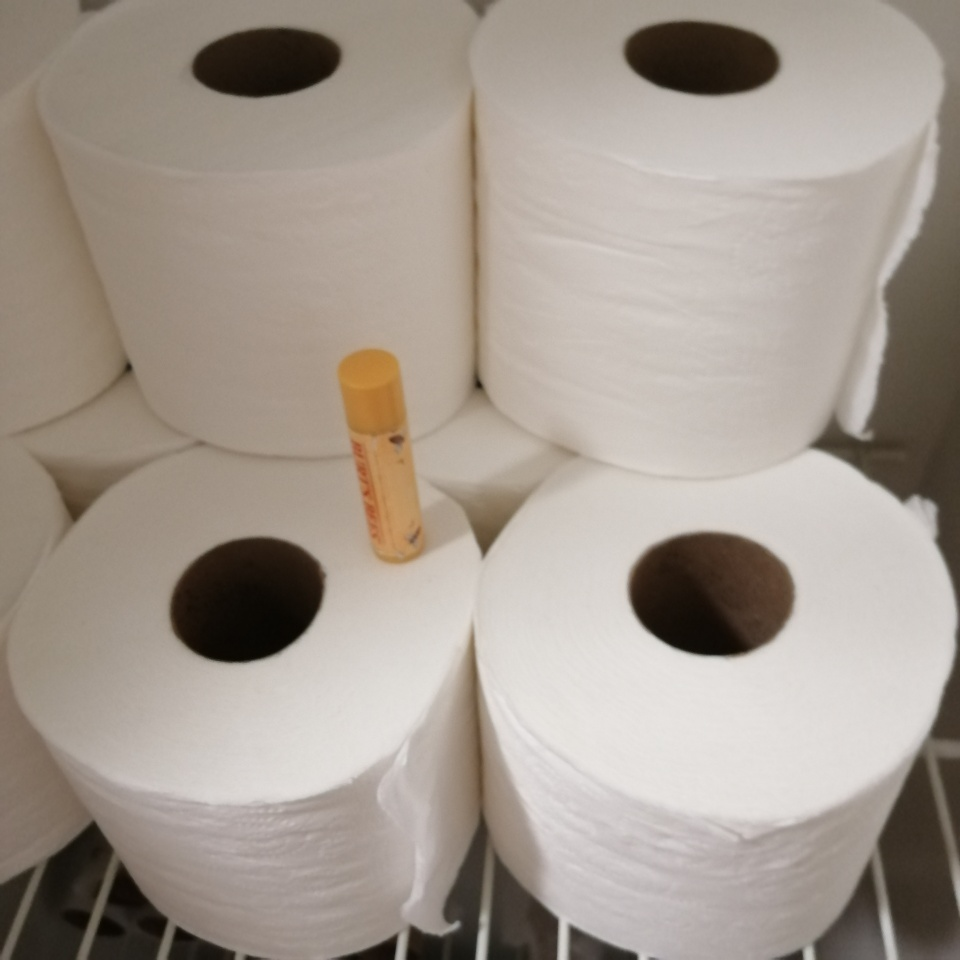chapstick: (339, 349, 430, 565)
